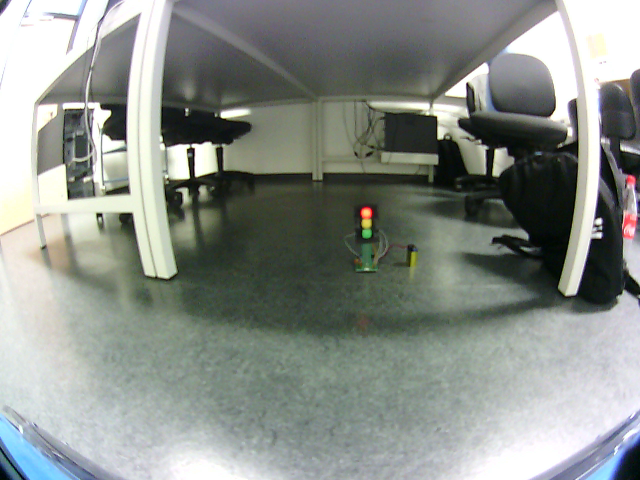red trafficlight: (356, 207, 377, 243)
